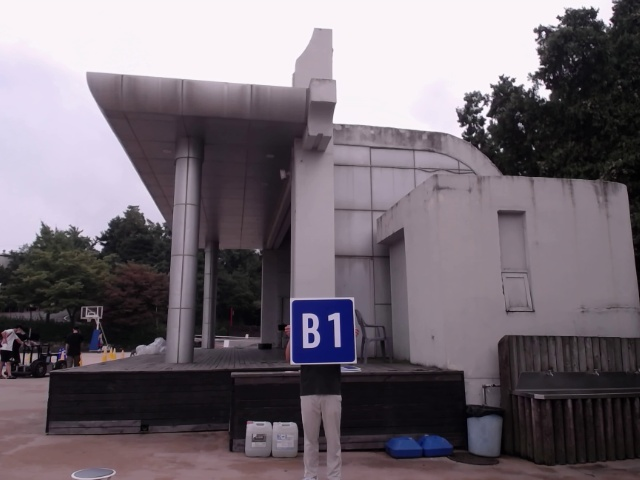delivery_b1: (290, 298, 356, 364)
